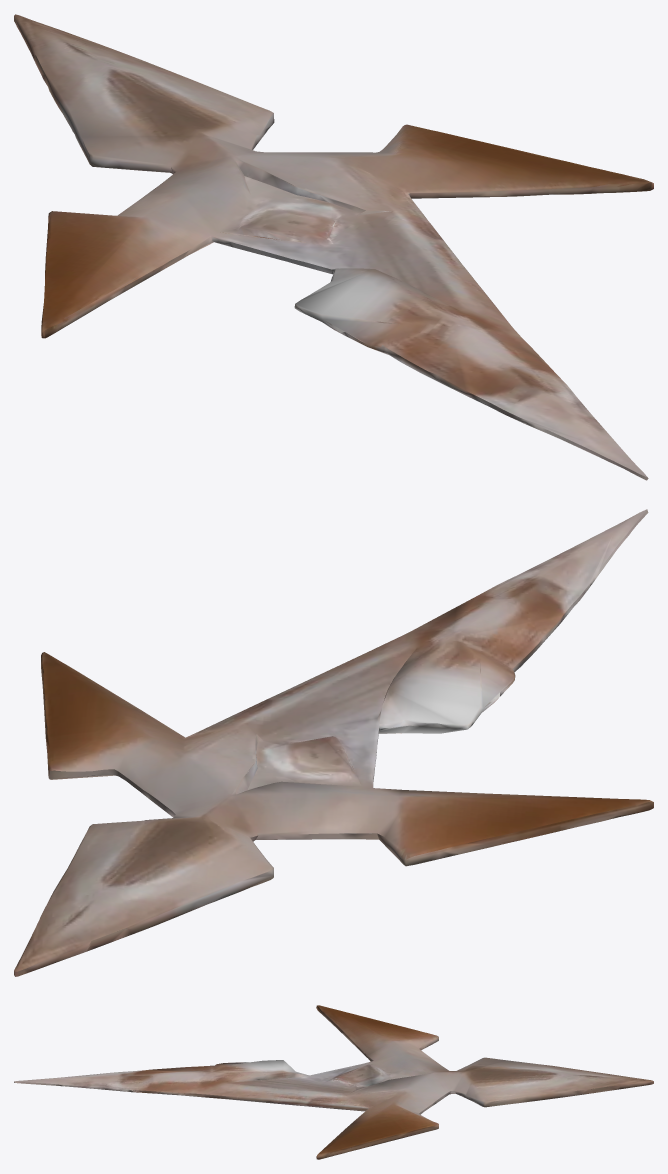
The model's file is 賈充_舞投刃.glb.
3 views of the same model, one above another, from view 1: azimuth 30°, elevation 25°; view 2: azimuth 150°, elevation 25°; view 3: azimuth 270°, elevation 25° (orthographic). The views are drawn at different scales.
Parts seen in each view (by area): view 1: geometry_0; view 2: geometry_0; view 3: geometry_0.
Part boxes in pixels (bbox=[...]): geometry_0: bbox=[14, 14, 653, 480]; geometry_0: bbox=[14, 509, 653, 976]; geometry_0: bbox=[14, 1005, 653, 1159].
Size of the model in its own units: 0.5589 by 0.0354 by 1.
Materials: 1 (1 with a texture image).
